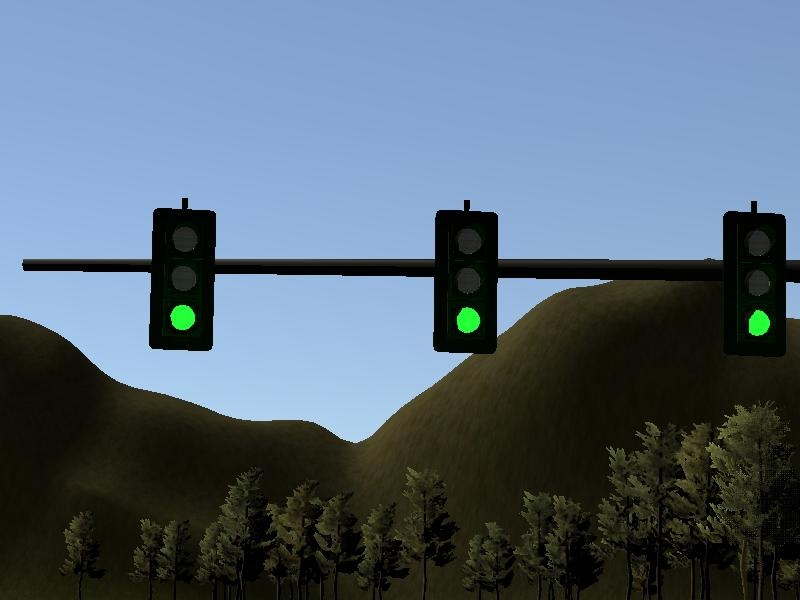GREEN: (433, 207, 499, 353), (149, 206, 215, 352), (722, 211, 784, 352)
